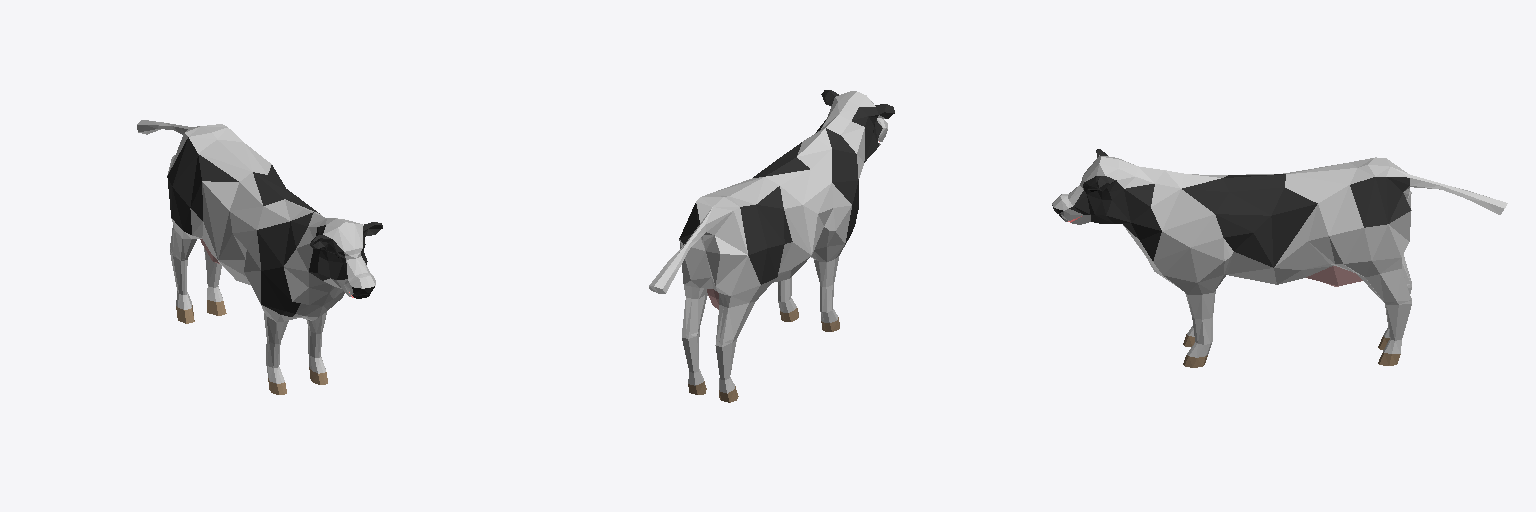
File: cow_colorMap.obj
3 views of the same model, side by side, from view 1: azimuth 30°, elevation 25°; view 2: azimuth 150°, elevation 25°; view 3: azimuth 270°, elevation 25° (orthographic).
Size of the model in its own units: 75.3 by 171 by 357.